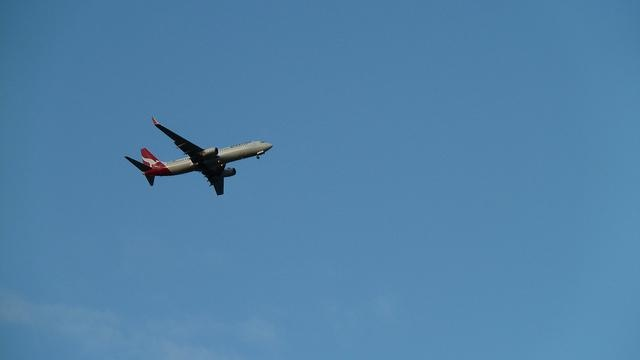airplane: (124, 117, 279, 189)
